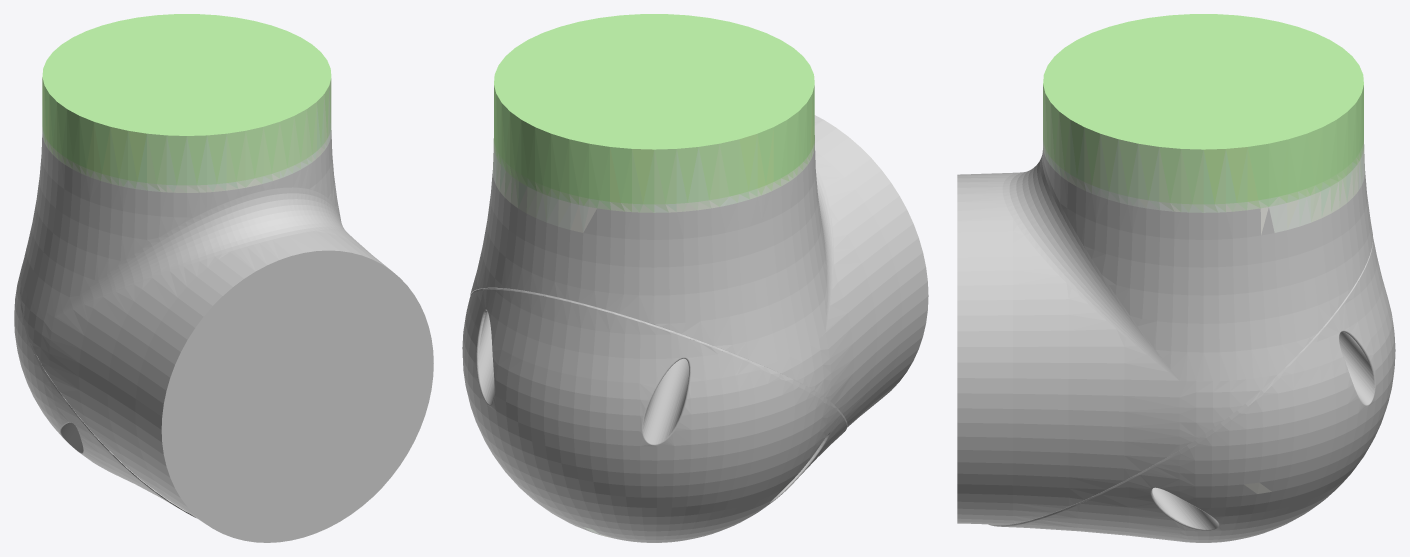
File: FanucCRX5IALink5.dae
3 renders of one model, left to right at view 1: azimuth 30°, elevation 25°; view 2: azimuth 150°, elevation 25°; view 3: azimuth 270°, elevation 25°, orthographic. The views are drawn at different scales.
Parts seen in each view (by area): view 1: Fanuc5iALink5; view 2: Fanuc5iALink5; view 3: Fanuc5iALink5.
Boxes of the visible parts, box(x1,y1,x2,y2) form: Fanuc5iALink5: box(14, 14, 433, 542); Fanuc5iALink5: box(462, 14, 928, 542); Fanuc5iALink5: box(957, 14, 1395, 542).
Bounding box in the file's own units: 0.11 × 0.1255 × 0.1401.
